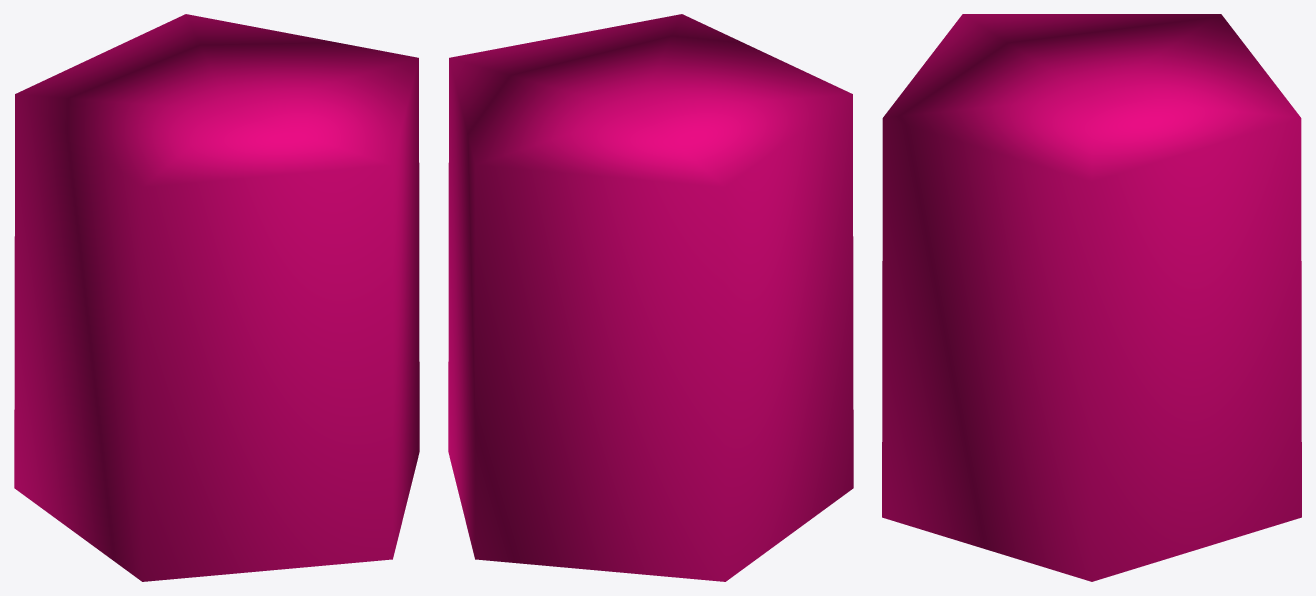
Rendered from Canned_Food_04_Lod2.fbx.
The picture shows the model from 3 angles, left to right: view 1: azimuth 30°, elevation 25°; view 2: azimuth 150°, elevation 25°; view 3: azimuth 270°, elevation 25°; orthographic projection.
Visible parts, largest first — view 1: Canned_Food_04_Lod2; view 2: Canned_Food_04_Lod2; view 3: Canned_Food_04_Lod2.
Boxes of the visible parts, box(x1,y1,x2,y2) form: Canned_Food_04_Lod2: box(14, 14, 419, 581); Canned_Food_04_Lod2: box(448, 14, 853, 581); Canned_Food_04_Lod2: box(882, 14, 1301, 581).
Size of the model in its own units: 10.51 by 11.6 by 11.05.
